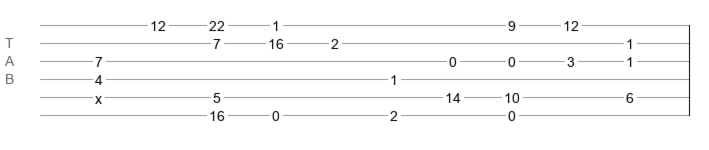0: (272, 108, 280, 118), (449, 54, 457, 64), (508, 108, 516, 118), (508, 54, 516, 64)
1: (272, 18, 280, 28), (390, 72, 398, 82), (626, 54, 634, 64), (626, 36, 634, 46)
10: (504, 90, 520, 100)
12: (150, 18, 166, 28), (563, 18, 579, 28)
14: (445, 90, 461, 100)
16: (209, 108, 225, 118), (268, 36, 284, 46)
2: (331, 36, 339, 46), (390, 108, 398, 118)
22: (209, 18, 225, 28)
3: (567, 54, 575, 64)
4: (95, 72, 103, 82)
5: (213, 90, 221, 100)
6: (626, 90, 634, 100)
7: (95, 54, 103, 64), (213, 36, 221, 46)
9: (508, 18, 516, 28)
x: (95, 91, 102, 99)
